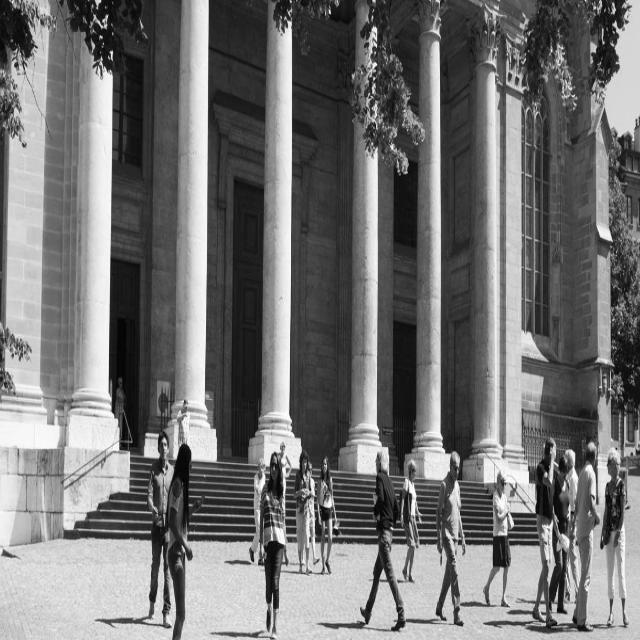person: (143, 408, 200, 636), (359, 456, 408, 630), (534, 446, 573, 626), (435, 451, 470, 625), (595, 454, 630, 628), (549, 449, 583, 626), (567, 450, 599, 629), (483, 475, 515, 609), (266, 445, 287, 628), (400, 459, 423, 586), (313, 458, 336, 575), (294, 450, 311, 578), (248, 447, 265, 570)
